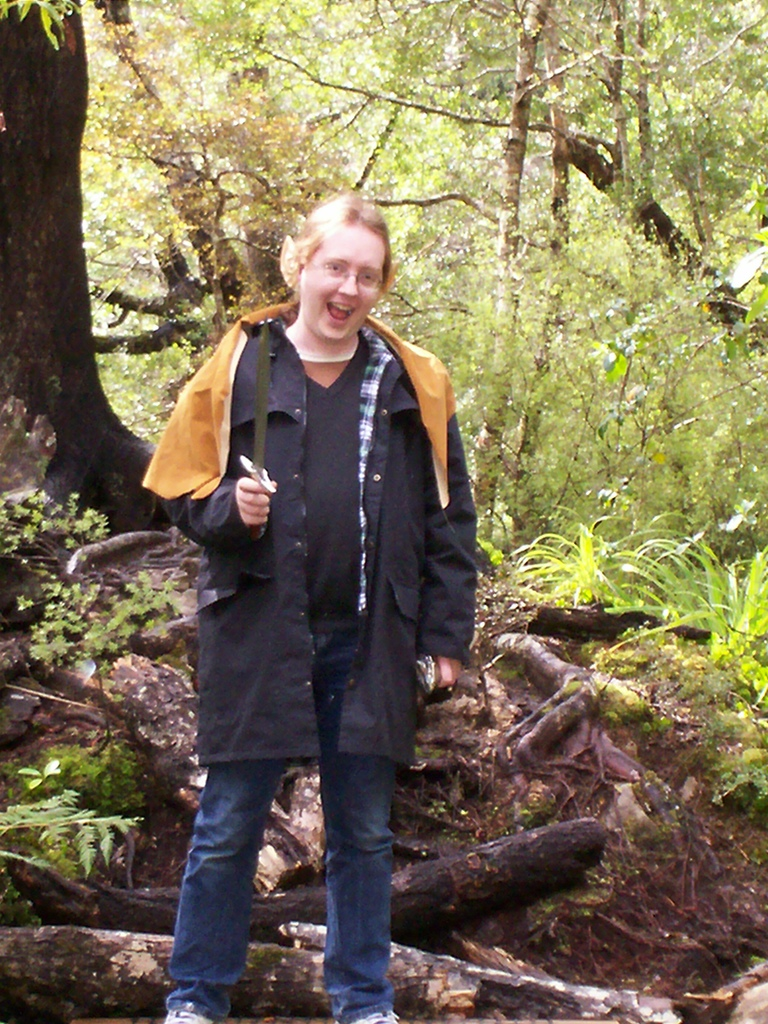Tree: (0, 0, 768, 547)
